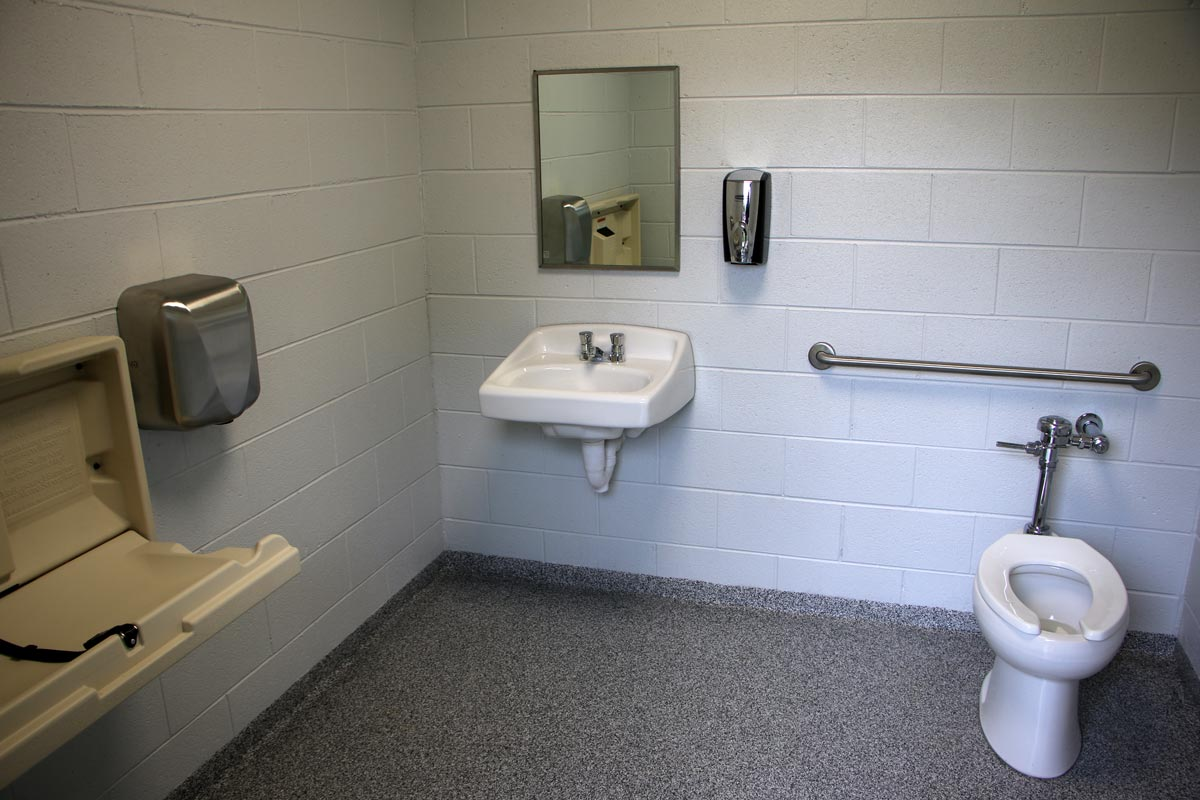dispenser: (96, 255, 276, 437), (715, 161, 775, 269)
faucet: (565, 322, 633, 374)
restroom_assist_bar: (807, 340, 1163, 393)
sink: (473, 361, 679, 430)
toilet: (971, 533, 1131, 779)
toilet_handle: (991, 431, 1039, 463)
